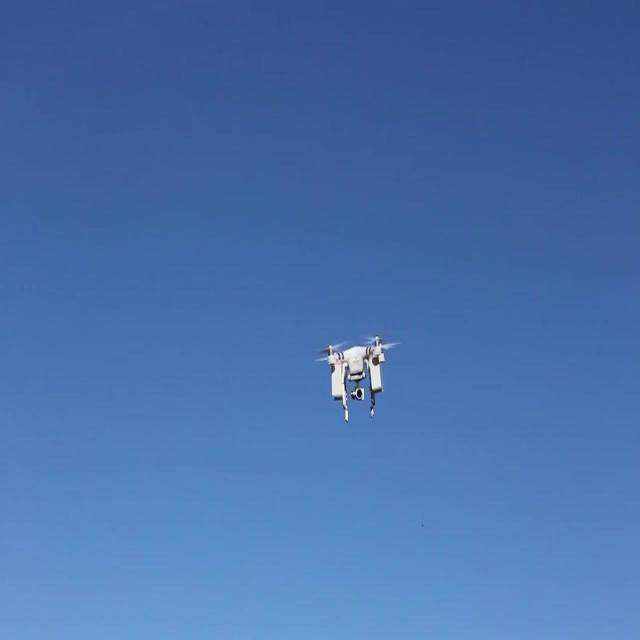UAV: (314, 334, 400, 422)
